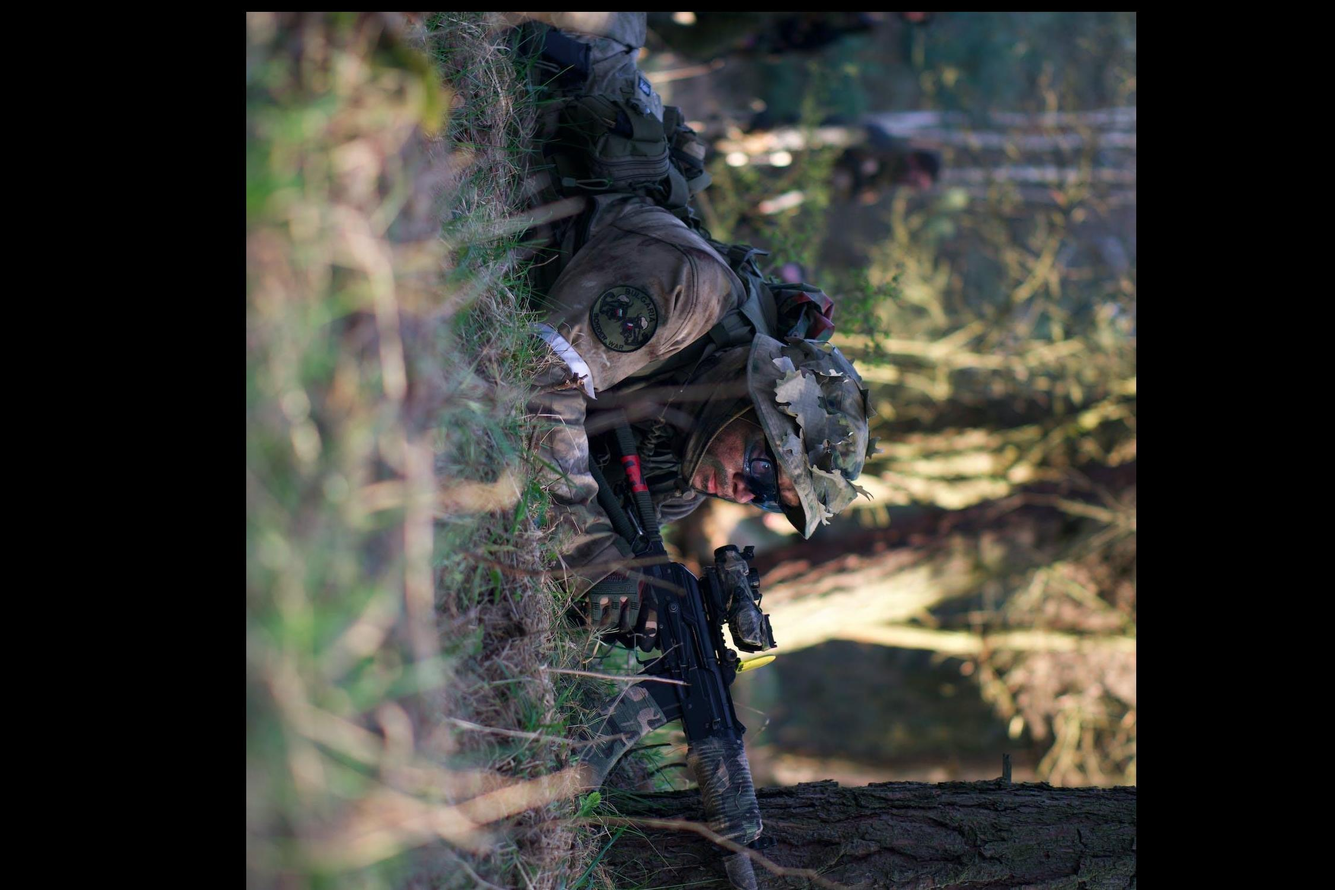larga: (585, 405, 777, 890)
